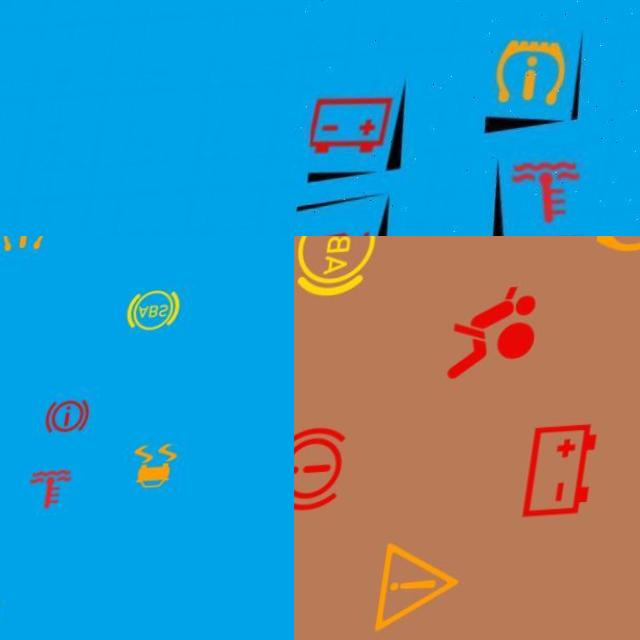High Engine Coolant Temperature: (26, 462, 90, 522)
